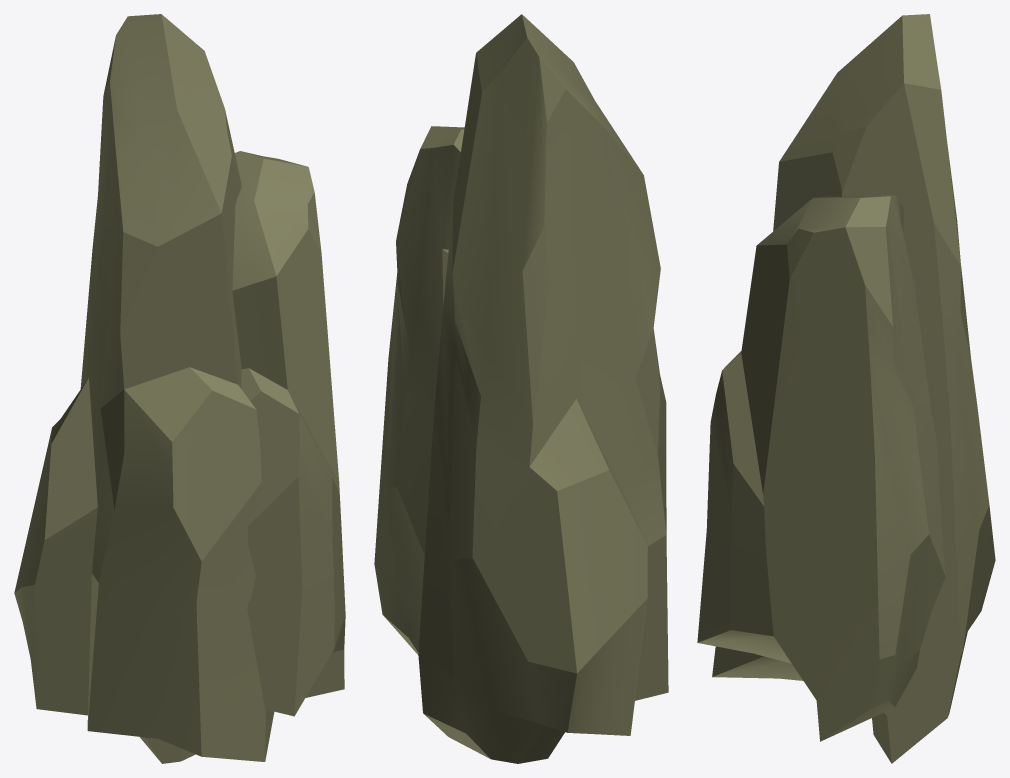
Rendered from rock_04.fbx.
3 renders of one model, left to right at view 1: azimuth 30°, elevation 25°; view 2: azimuth 150°, elevation 25°; view 3: azimuth 270°, elevation 25°, orthographic. The views are drawn at different scales.
Parts seen in each view (by area): view 1: rock_04; view 2: rock_04; view 3: rock_04.
Part boxes in pixels (left/top/right/bottom): rock_04: left=14, top=14, right=345, bottom=763; rock_04: left=374, top=14, right=668, bottom=763; rock_04: left=697, top=14, right=995, bottom=763.
Size of the model in its own units: 0.6511 by 1.63 by 0.6147.
